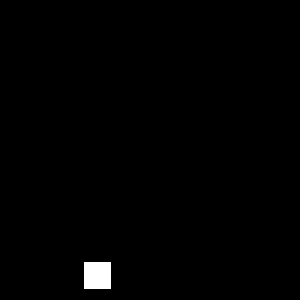circle: (84, 262, 111, 289)
